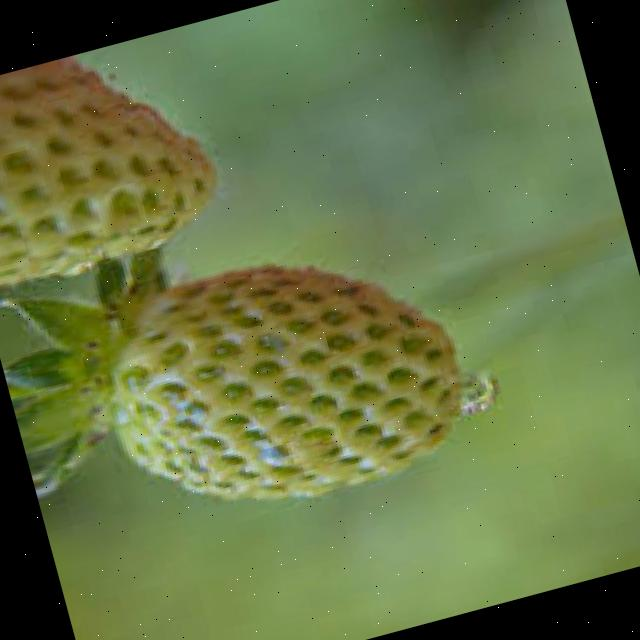strawberry: (81, 221, 482, 542), (0, 28, 227, 295)
